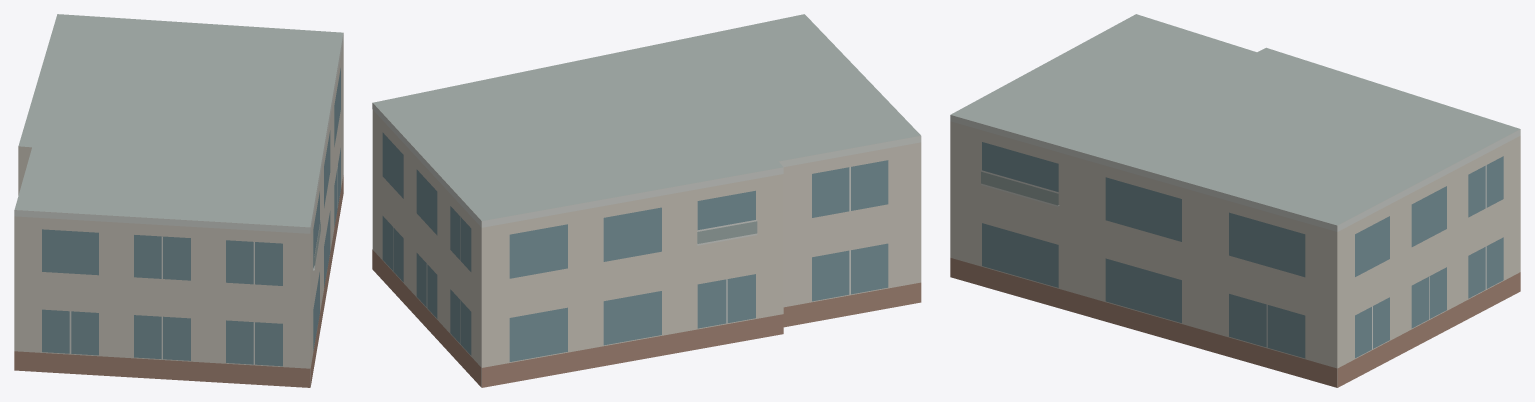
Rendered from survey-upis-32848728.glb.
The picture shows the model from 3 angles, left to right: view 1: azimuth 30°, elevation 25°; view 2: azimuth 150°, elevation 25°; view 3: azimuth 270°, elevation 25°; orthographic projection. The views are drawn at different scales.
Parts seen in each view (by area): view 1: survey-upis-32848728.tmp; view 2: survey-upis-32848728.tmp; view 3: survey-upis-32848728.tmp.
Boxes of the visible parts, box(x1,y1,x2,y2) form: survey-upis-32848728.tmp: box(14, 14, 343, 387); survey-upis-32848728.tmp: box(372, 14, 921, 387); survey-upis-32848728.tmp: box(950, 14, 1520, 387).
Size of the model in its own units: 17.06 by 6.1 by 19.44.
